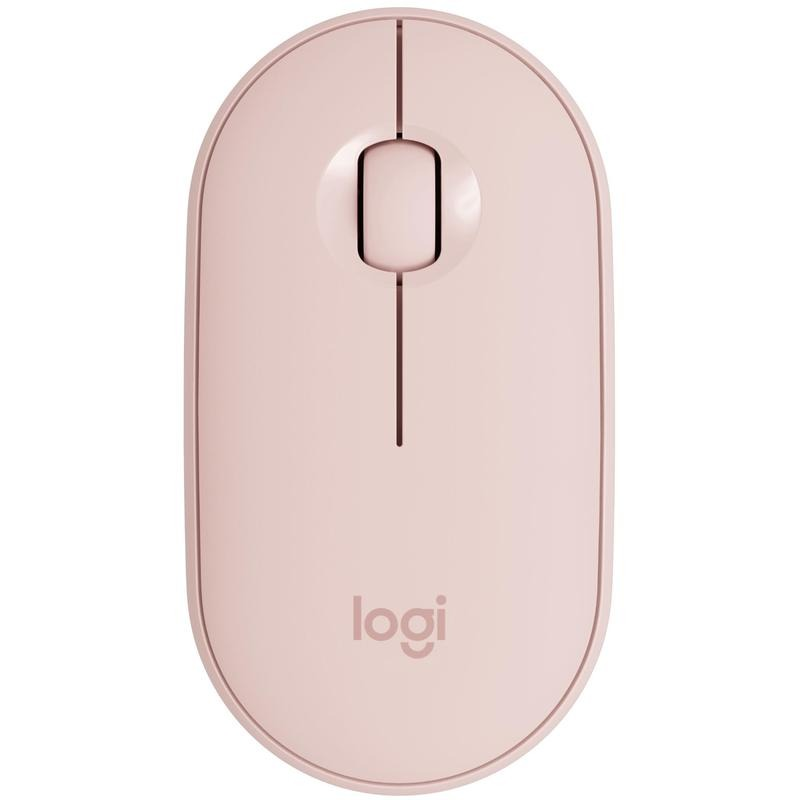mouse: (184, 6, 616, 788)
